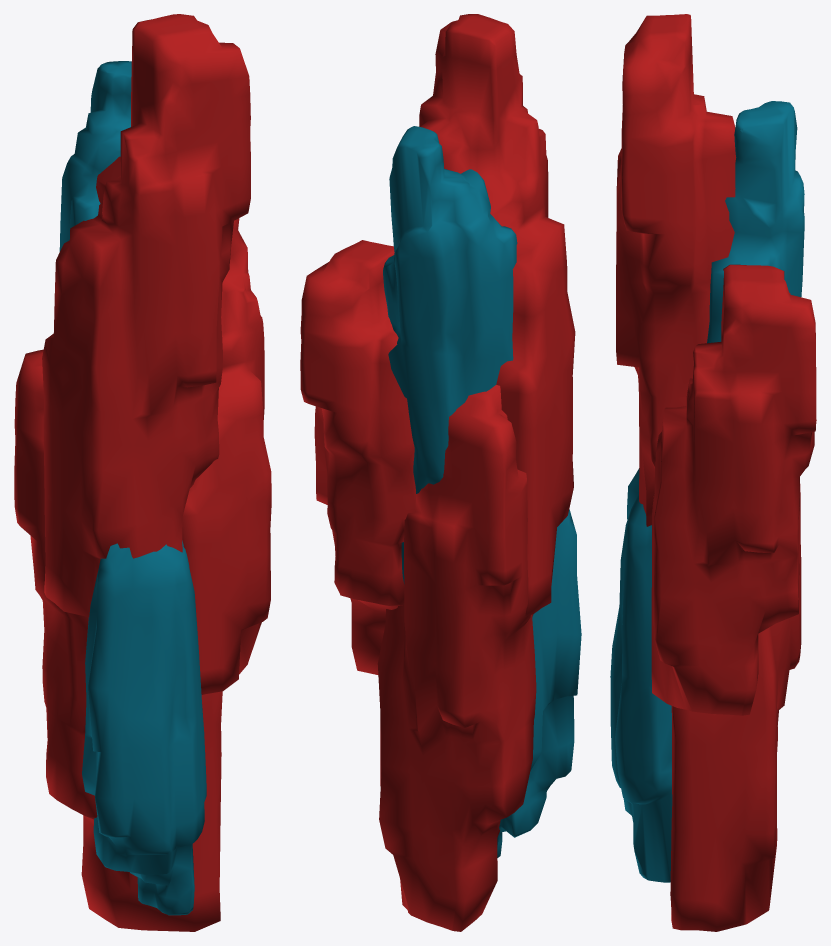
Rendered from RockBigStructure3.FBX.
3 views of the same model, side by side, from view 1: azimuth 30°, elevation 25°; view 2: azimuth 150°, elevation 25°; view 3: azimuth 270°, elevation 25° (orthographic). The views are drawn at different scales.
Visible parts, largest first — view 1: RockBigSize_3, big_rock_02_low001, RockBigSize_005, RockBigSize_004, big_rock_02_low; view 2: RockBigSize_004, RockBigSize_3, RockBigSize_005, big_rock_02_low, big_rock_02_low001; view 3: RockBigSize_005, RockBigSize_3, RockBigSize_004, big_rock_02_low001, big_rock_02_low.
Boxes of the visible parts, x1,y1,x2,y2 form: RockBigSize_3: (42, 14, 250, 616); big_rock_02_low001: (82, 540, 206, 915); RockBigSize_005: (182, 218, 271, 694); RockBigSize_004: (14, 349, 222, 931); big_rock_02_low: (59, 61, 131, 251); RockBigSize_004: (377, 385, 536, 931); RockBigSize_3: (419, 14, 575, 615); RockBigSize_005: (300, 240, 415, 674); big_rock_02_low: (383, 126, 517, 583); big_rock_02_low001: (497, 509, 581, 857); RockBigSize_005: (651, 264, 816, 715); RockBigSize_3: (616, 14, 736, 526); RockBigSize_004: (670, 484, 801, 931); big_rock_02_low001: (610, 468, 672, 882); big_rock_02_low: (707, 101, 804, 343).
Size of the model in its own units: 463 by 1892 by 399.
